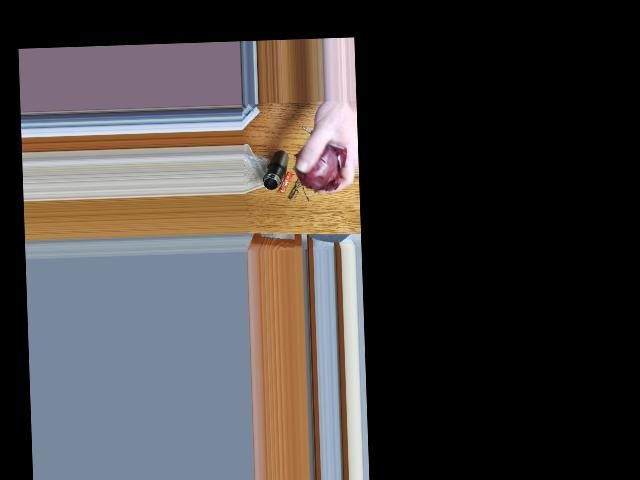onion: (301, 140, 342, 188)
